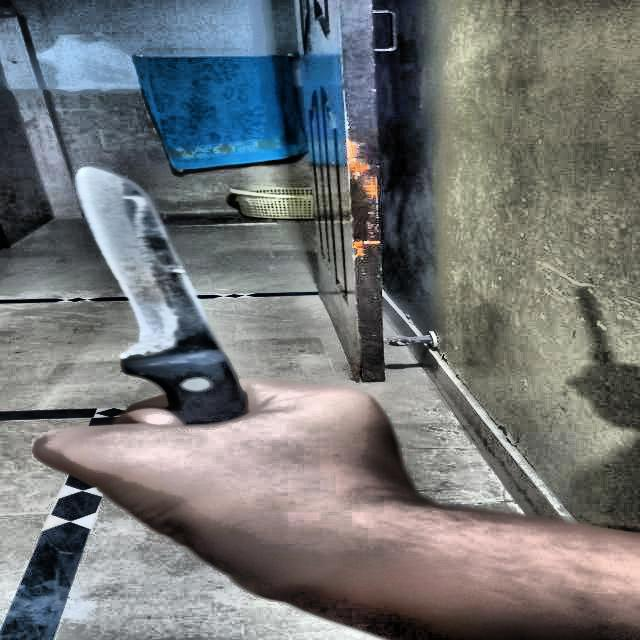knife: (78, 168, 244, 424)
